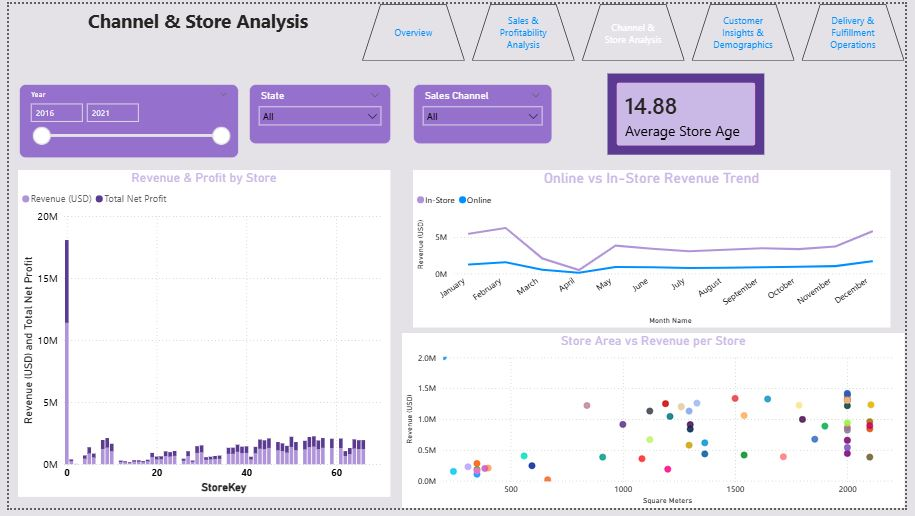

The page's visual inventory and layout, read from the dashboard file:
{"tool":"powerbi","page":{"name":"Channel & Store Analysis","canvas":[1280,720],"ordinal":2},"visuals":[{"type":"slicer","fields":{"Values":["Date.Year"]},"box":[14,114,314,106],"z":0},{"type":"slicer","fields":{"Values":["Sales.Sales Channel"]},"box":[576.9,114.5,198.5,86.4],"z":1000},{"type":"slicer","fields":{"Values":["Customers.State"]},"box":[343.4,114.5,203.2,86.4],"z":2000},{"type":"lineChart","title":"Online vs In-Store Revenue Trend","fields":{"Y":["Customers.Revenue (USD)"],"Series":["Sales.Sales Channel"],"Category":["Sales.Month Name"]},"box":[576.7,236.7,681.7,225],"z":3000},{"type":"scatterChart","title":"Store Area vs Revenue per Store","fields":{"X":["Stores.Square Meters"],"Y":["Customers.Revenue (USD)"],"Series":["Stores.StoreKey"]},"box":[561.7,470,718.3,250],"z":4000},{"type":"columnChart","title":"Revenue & Profit by Store","fields":{"Category":["Stores.StoreKey"],"Y":["Customers.Revenue (USD)","Customers.Total Net Profit"]},"box":[13.3,236.7,531.7,466.7],"z":5000},{"type":"cardVisual","fields":{"Data":["Customers.Average Store Age"]},"box":[850,94,234,126],"z":6000},{"type":"textbox","box":[0,0,540,58],"z":7000},{"type":"pageNavigator","box":[503.7,0,776.3,81.3],"z":12000}]}

Visuals, with their boxes in screenshot pixels (x1, y1, x2, y2), scaled from the page's 1280x720 canvas onto the 915x516 screenshot:
slicer - Date.Year: [x1=10, y1=82, x2=234, y2=158]
slicer - Sales.Sales Channel: [x1=412, y1=82, x2=554, y2=144]
slicer - Customers.State: [x1=245, y1=82, x2=391, y2=144]
"Online vs In-Store Revenue Trend" lineChart: [x1=412, y1=170, x2=900, y2=331]
"Store Area vs Revenue per Store" scatterChart: [x1=402, y1=337, x2=914, y2=515]
"Revenue & Profit by Store" columnChart: [x1=10, y1=170, x2=390, y2=504]
cardVisual - Customers.Average Store Age: [x1=608, y1=67, x2=775, y2=158]
textbox: [x1=0, y1=0, x2=386, y2=42]
pageNavigator: [x1=360, y1=0, x2=914, y2=58]
